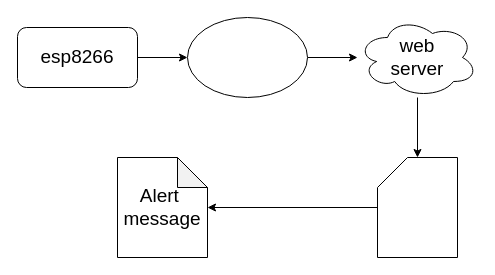
The diagram is 495 pixels wide and 275 high, and some of its shapes have lost their labels. Each missing label, with the centre of its shape:
Alert switch: pixel 247 57
Contacts: pixel 417 207
